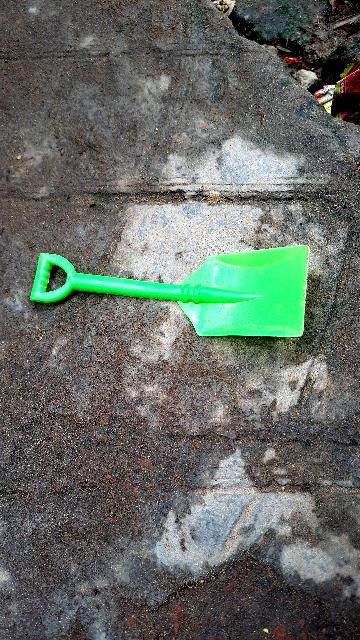hardplastic: (41, 238, 310, 344)
